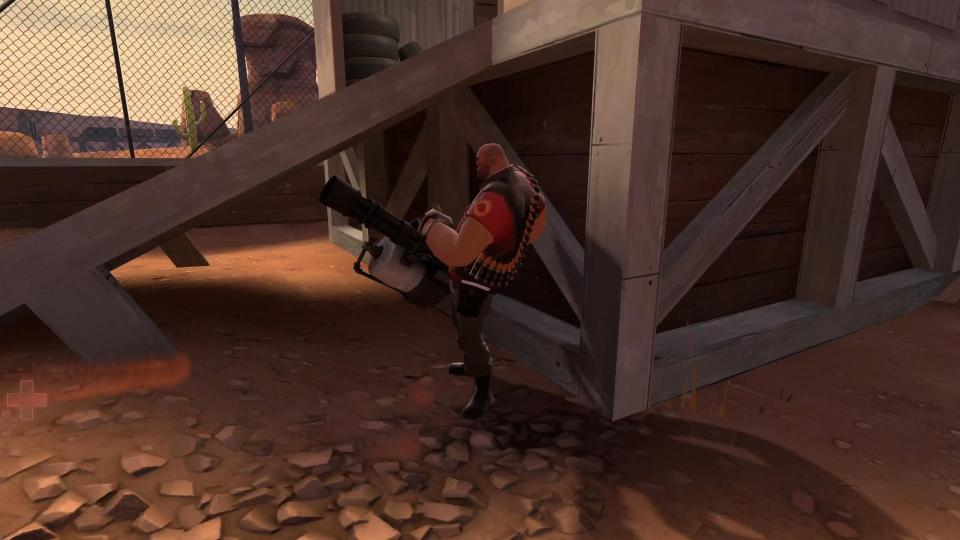Enemy: (318, 134, 558, 428)
